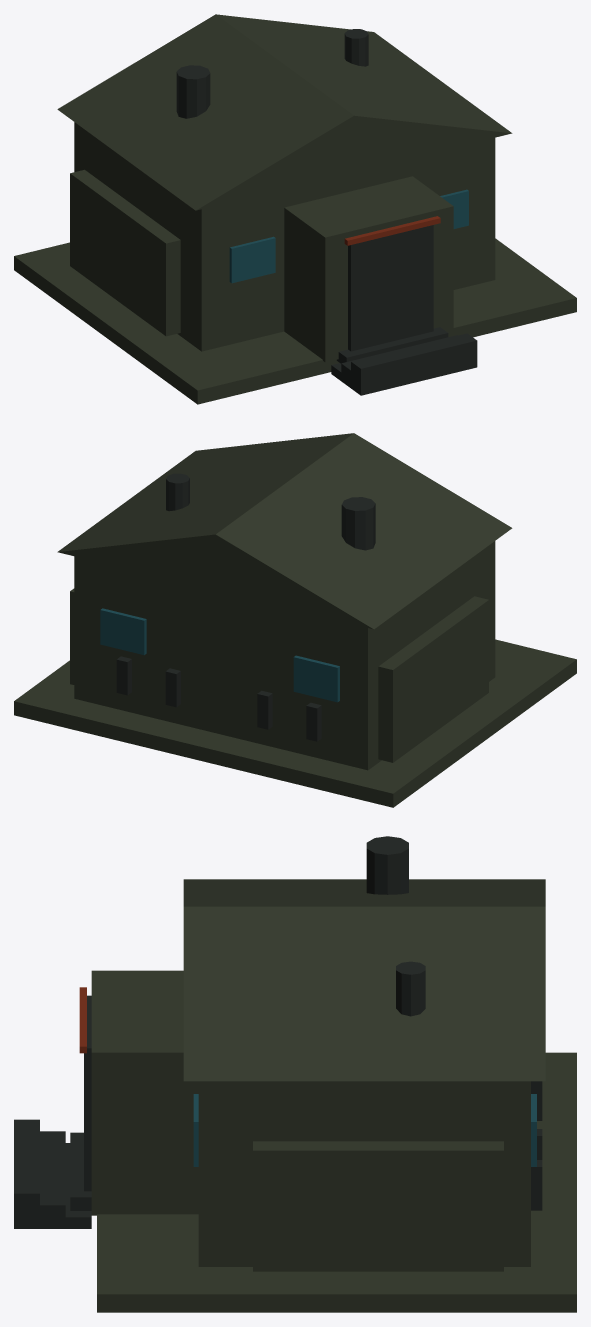
Rendered from Bastion_Barracks_Articulated.glb.
3 renders of one model, top to bottom at view 1: azimuth 30°, elevation 25°; view 2: azimuth 150°, elevation 25°; view 3: azimuth 270°, elevation 25°, orthographic. The views are drawn at different scales.
Visible parts, largest first — view 1: Base; view 2: Base; view 3: Base.
Boxes of the visible parts, x1,y1,x2,y2 form: Base: (14, 14, 576, 404); Base: (14, 433, 576, 807); Base: (14, 836, 576, 1312).
Size of the model in its own units: 6.2 by 3.51 by 6.1.
1 material, 1 textured.
